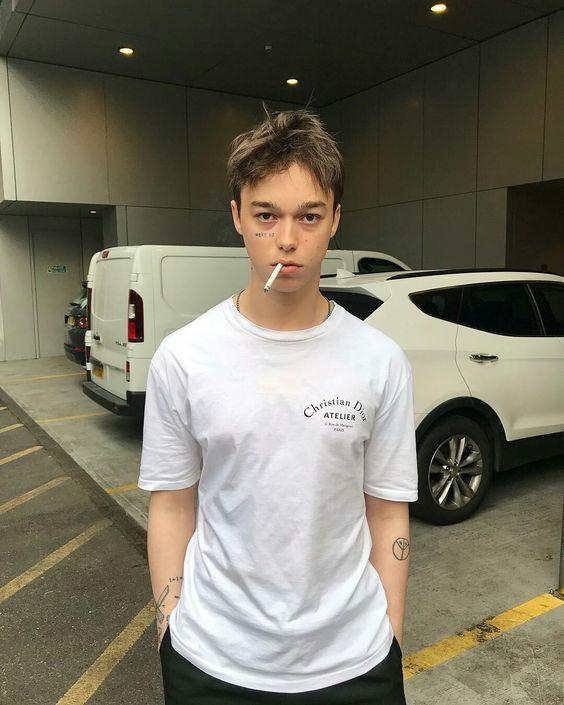cigarette: (263, 264, 283, 293)
